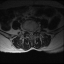CCS_stenosis: (30, 30, 32, 37)
LFS_stenosis: (34, 28, 35, 33)
LLS_normal: (32, 30, 34, 35)
RFS_stenosis: (26, 29, 28, 34)
RLS_normal: (28, 30, 30, 35)
